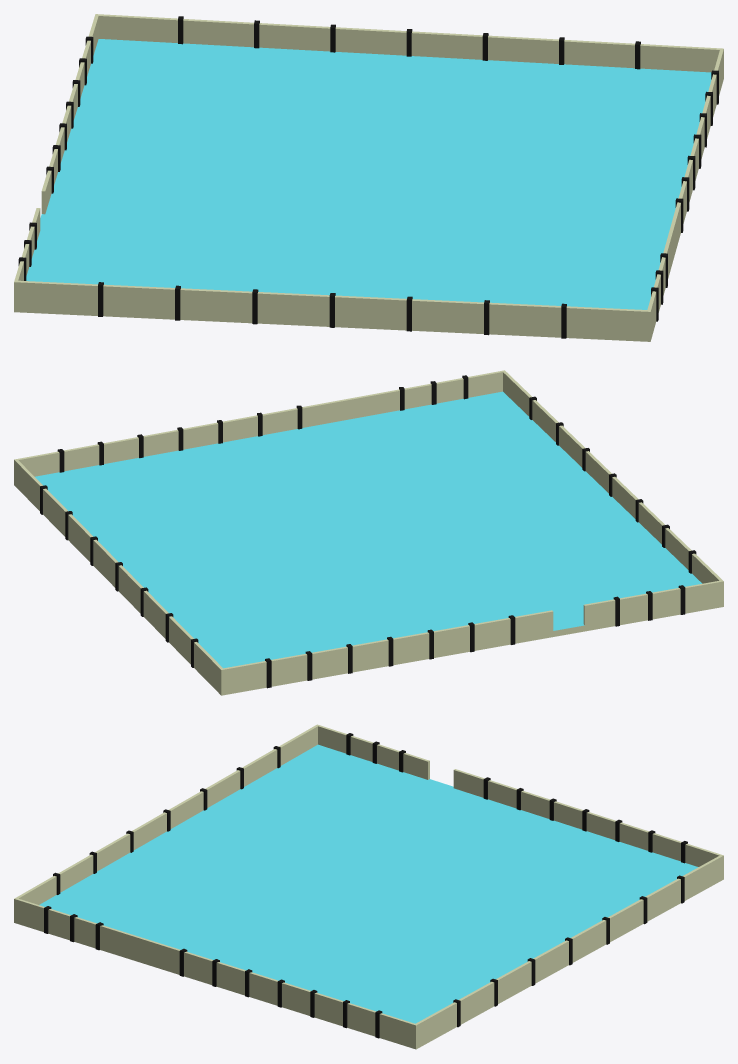
The model's file is SM_Yards2.fbx.
3 renders of one model, top to bottom at view 1: azimuth 30°, elevation 25°; view 2: azimuth 150°, elevation 25°; view 3: azimuth 270°, elevation 25°, orthographic. The views are drawn at different scales.
Visible parts, largest first — view 1: SM_Yards2; view 2: SM_Yards2; view 3: SM_Yards2.
Part boxes in pixels (x1=…): SM_Yards2: x1=14, y1=14, x2=723, y2=341; SM_Yards2: x1=14, y1=370, x2=723, y2=695; SM_Yards2: x1=14, y1=724, x2=723, y2=1049.
Size of the model in its own units: 10081 by 401 by 10045.
